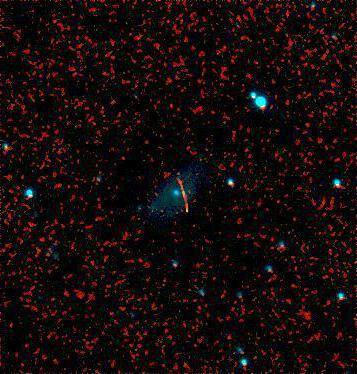star: (161, 179, 191, 209)
